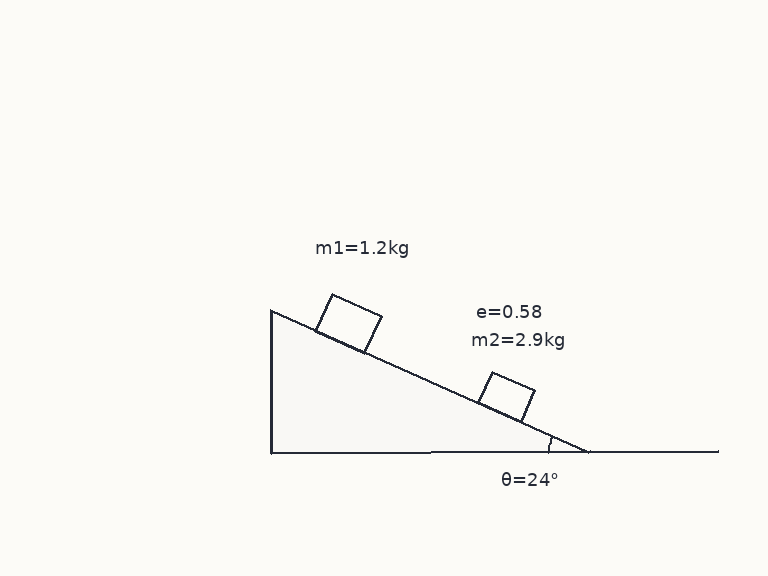block: (314, 293, 382, 354), (476, 370, 536, 424)
ramp: (268, 308, 591, 454)
